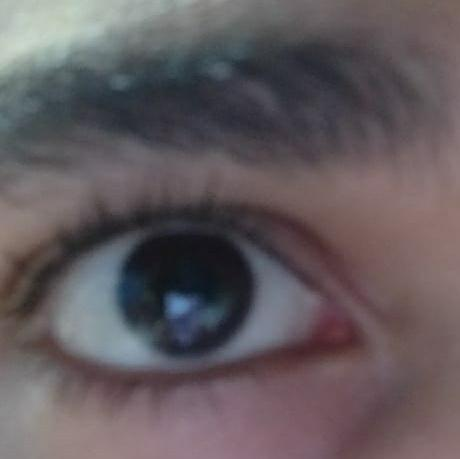open: (0, 173, 425, 446)
